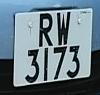1: (40, 47, 52, 84)
3: (24, 48, 41, 84), (67, 43, 82, 78)
7: (51, 45, 68, 81)
R: (36, 9, 55, 51)
W: (54, 10, 73, 48)
